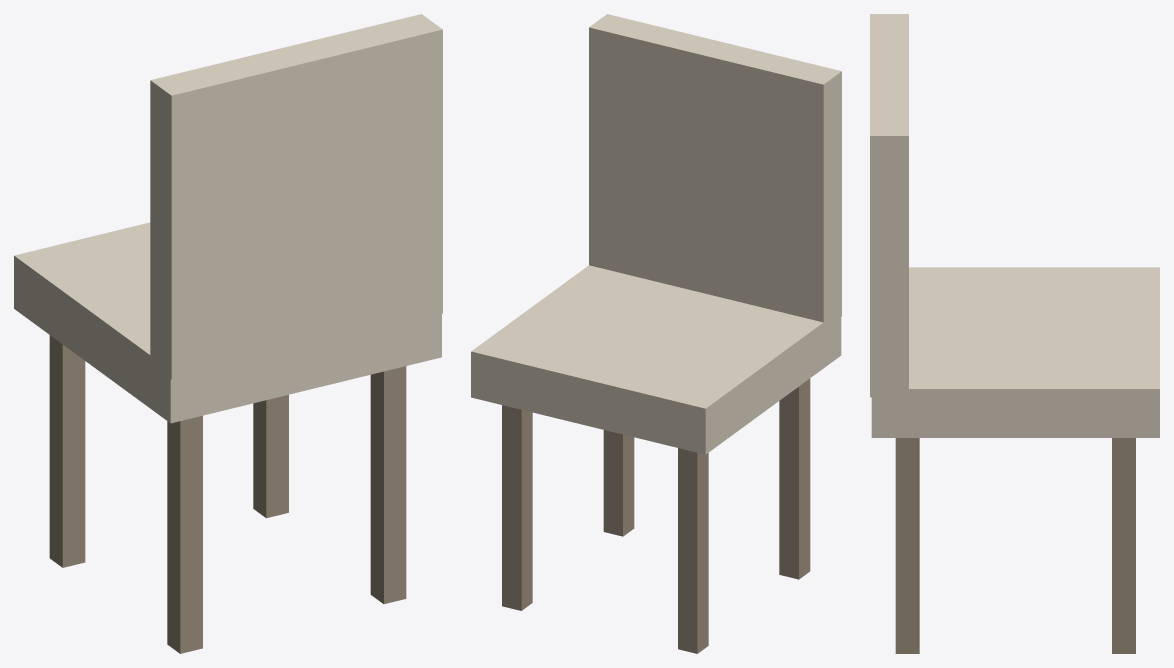
3 renders of one model, left to right at view 1: azimuth 30°, elevation 25°; view 2: azimuth 150°, elevation 25°; view 3: azimuth 270°, elevation 25°, orthographic. The views are drawn at different scales.
Visible parts, largest first — view 1: Chair_01/Back_1, Chair_01/Seat_0, Chair_01/Leg_5, Chair_01/Leg_3, Chair_01/Leg_2, Chair_01/Leg_4; view 2: Chair_01/Back_1, Chair_01/Seat_0, Chair_01/Leg_2, Chair_01/Leg_4, Chair_01/Leg_3, Chair_01/Leg_5; view 3: Chair_01/Seat_0, Chair_01/Back_1, Chair_01/Leg_5, Chair_01/Leg_4.
Part boxes in pixels (box(x1,y1,x2,y2)): Chair_01/Back_1: box(150, 14, 442, 379); Chair_01/Seat_0: box(14, 222, 441, 423); Chair_01/Leg_5: box(370, 366, 406, 604); Chair_01/Leg_3: box(167, 415, 202, 653); Chair_01/Leg_2: box(49, 335, 85, 567); Chair_01/Leg_4: box(253, 394, 288, 518); Chair_01/Back_1: box(589, 14, 841, 322); Chair_01/Seat_0: box(471, 265, 841, 454); Chair_01/Leg_2: box(678, 448, 708, 653); Chair_01/Leg_4: box(502, 405, 532, 610); Chair_01/Leg_3: box(779, 378, 810, 579); Chair_01/Leg_5: box(603, 430, 634, 536); Chair_01/Seat_0: box(871, 267, 1159, 437); Chair_01/Back_1: box(870, 14, 908, 397); Chair_01/Leg_5: box(895, 438, 919, 653); Chair_01/Leg_4: box(1112, 438, 1135, 653).
Size of the model in its own units: 0.48 by 0.97 by 0.4825.
